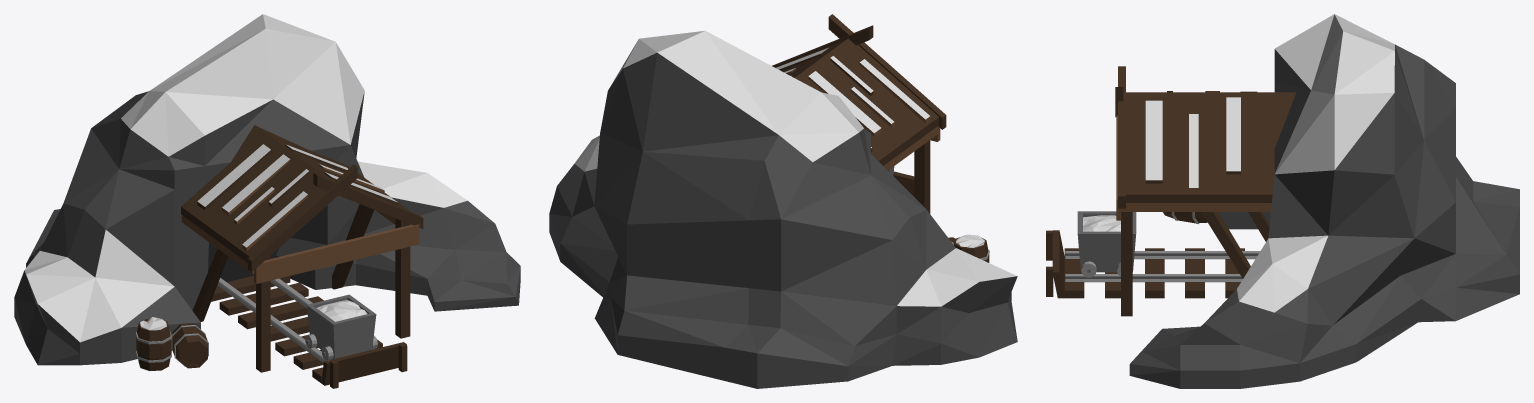
File: mine_snow_mat.fbx
3 renders of one model, left to right at view 1: azimuth 30°, elevation 25°; view 2: azimuth 150°, elevation 25°; view 3: azimuth 270°, elevation 25°, orthographic. The views are drawn at different scales.
Visible parts, largest first — view 1: mine_snow_mat; view 2: mine_snow_mat; view 3: mine_snow_mat.
Boxes of the visible parts, bbox=[...] form: mine_snow_mat: bbox=[14, 14, 520, 388]; mine_snow_mat: bbox=[549, 14, 1017, 388]; mine_snow_mat: bbox=[1046, 14, 1519, 388].
Bounding box in the file's own units: 588 × 320 × 508.
